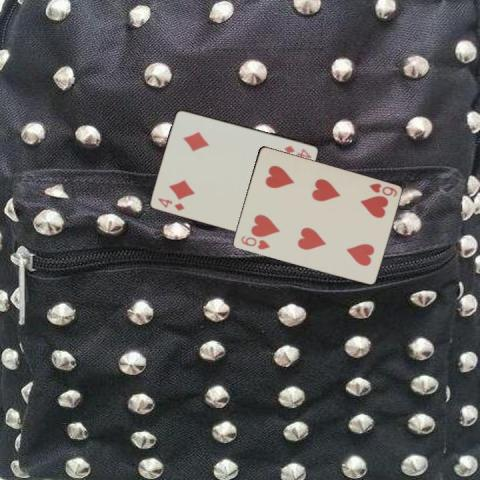4d: (281, 142, 313, 159), (155, 195, 186, 212)
6h: (366, 180, 398, 199), (238, 233, 271, 251)
